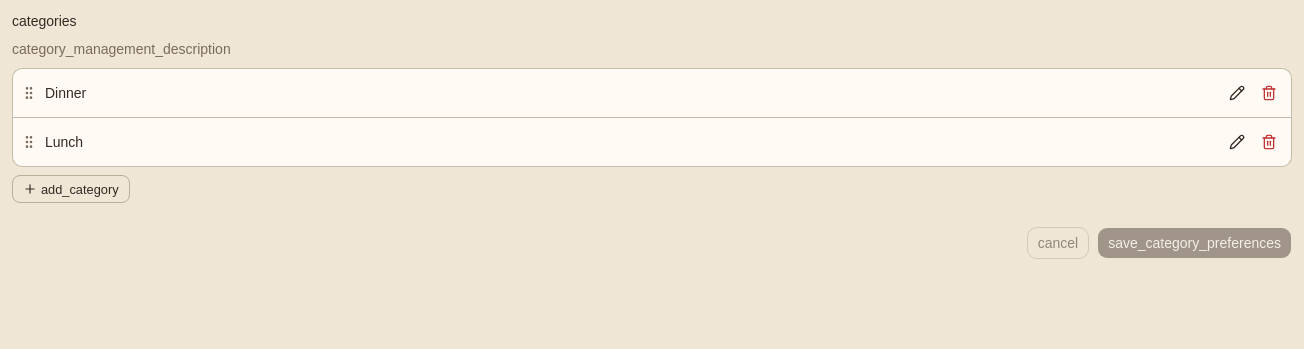
Test: CategoriesTab editing › requires a name for a new category
The width and height of the screenshot is (1304, 349).
Expected: the text "Dinner" is shown, [45,83,86,103]
Click the button "add_category" at (71, 189), box [12,175,130,203]
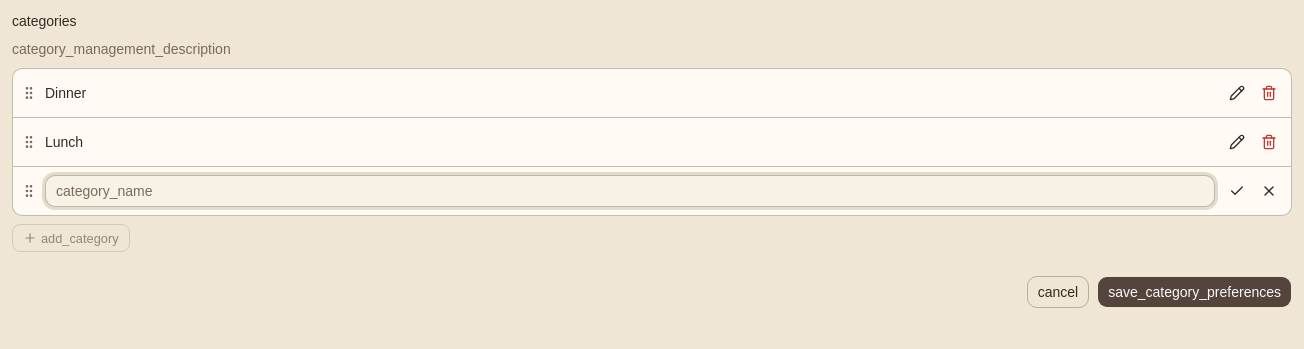
Click the button named "save_changes" at (1237, 191), box [1223,177,1251,205]
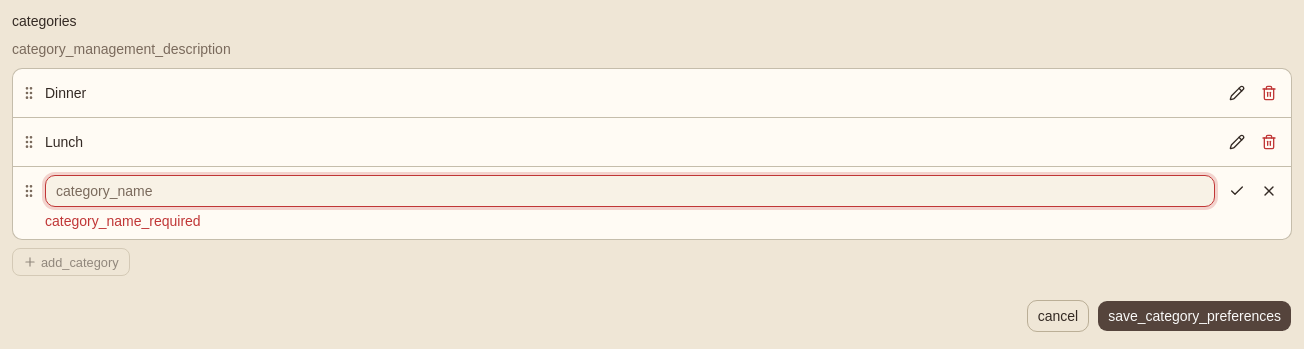
Expected: the text "category_name_required" is shown, [45,213,201,229]
Press Escape in the field with placeholder "category_name", box [45,175,1215,207]
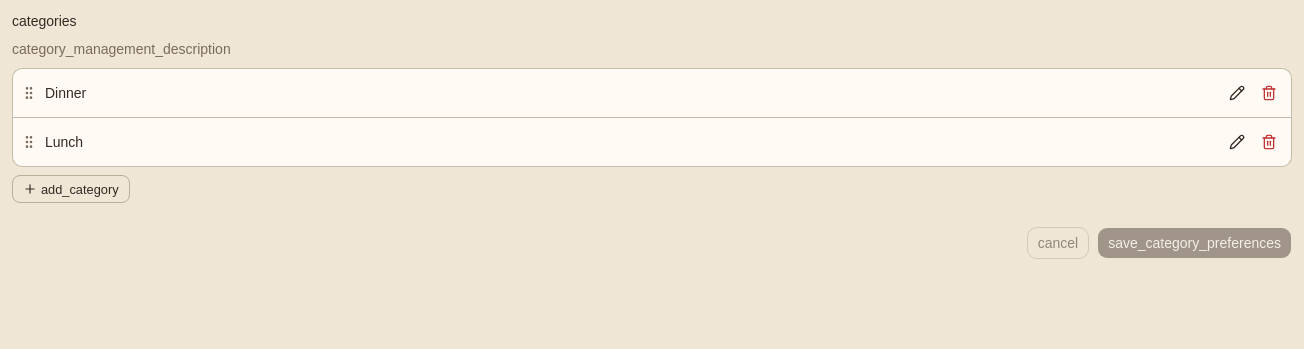
Expected: the text with placeholder "category_name" is gone
